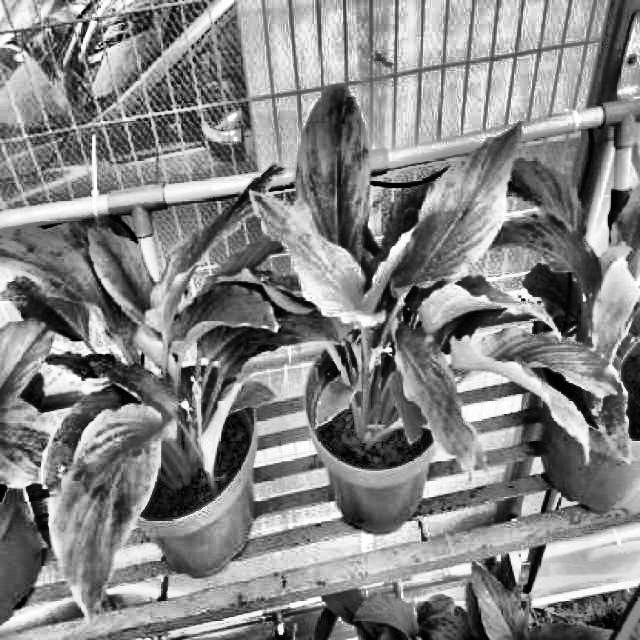plants: (248, 81, 590, 481), (0, 158, 286, 624)
